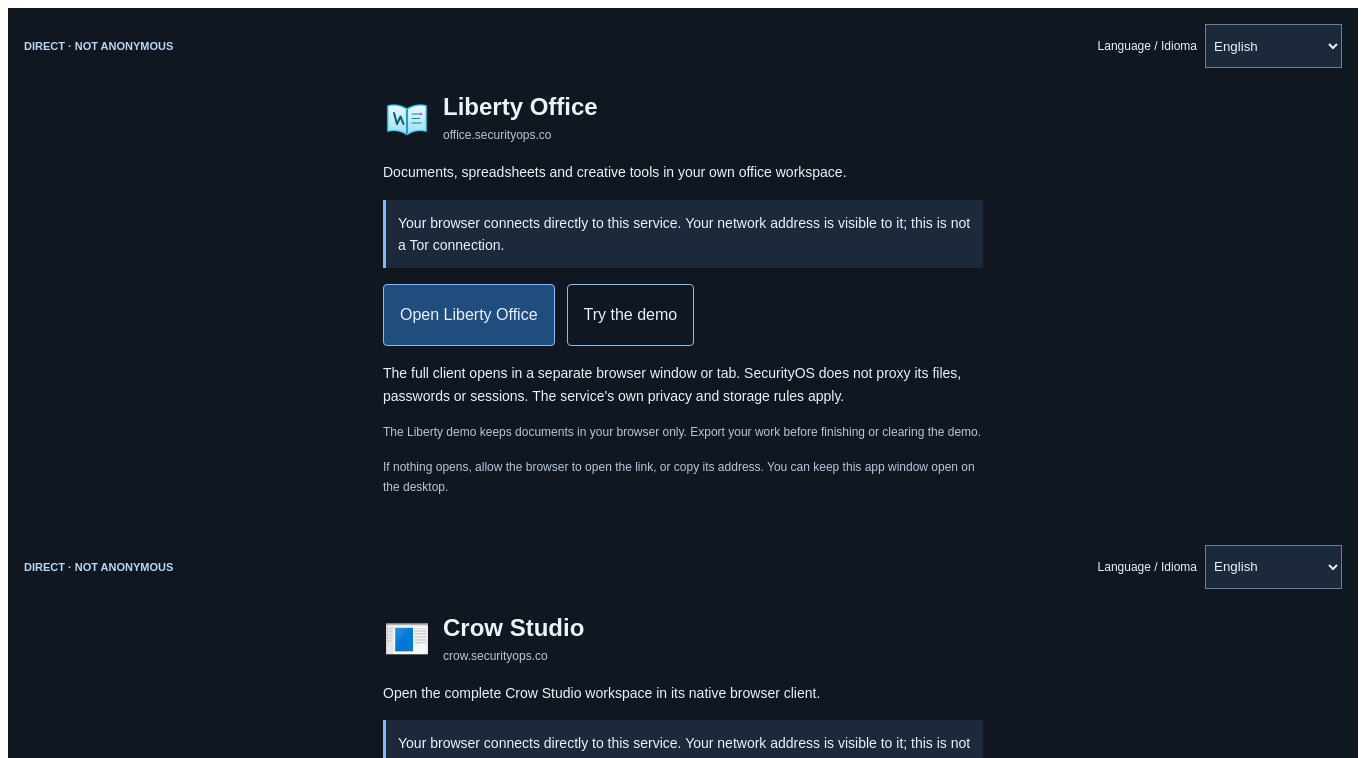
independent full-client service apps › defaults to English and changes only the selected app window to Portuguese
Select "Português (Brasil)" in the 1st dropdown labelled "Language / Idioma" at (1274, 46), box [1205,24,1342,68]
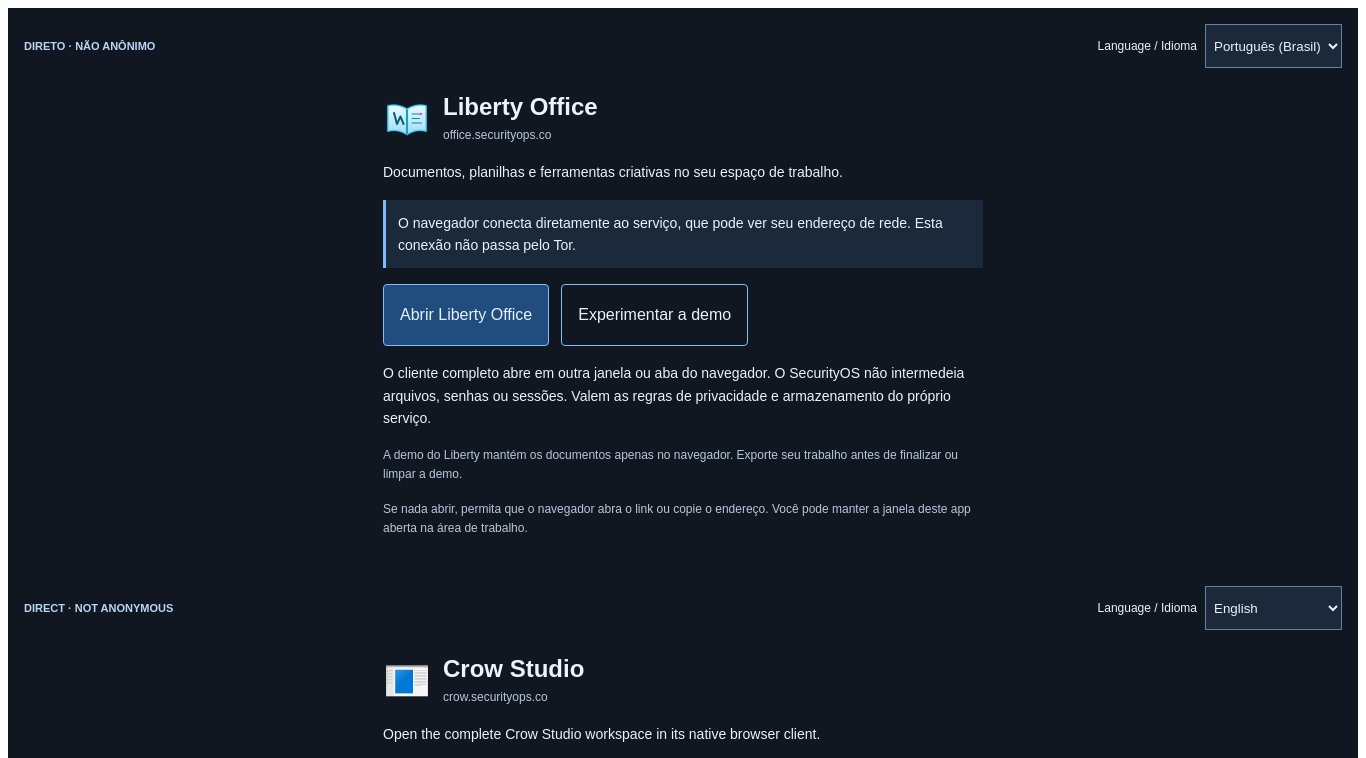
Expected: the dropdown labelled "Language / Idioma" in the row of "DIRECT · NOT ANONYMOUS" shows "English", [1205,586,1342,630]
Expected: the text "DIRETO · NÃO ANÔNIMO" is shown, [24,40,155,52]
